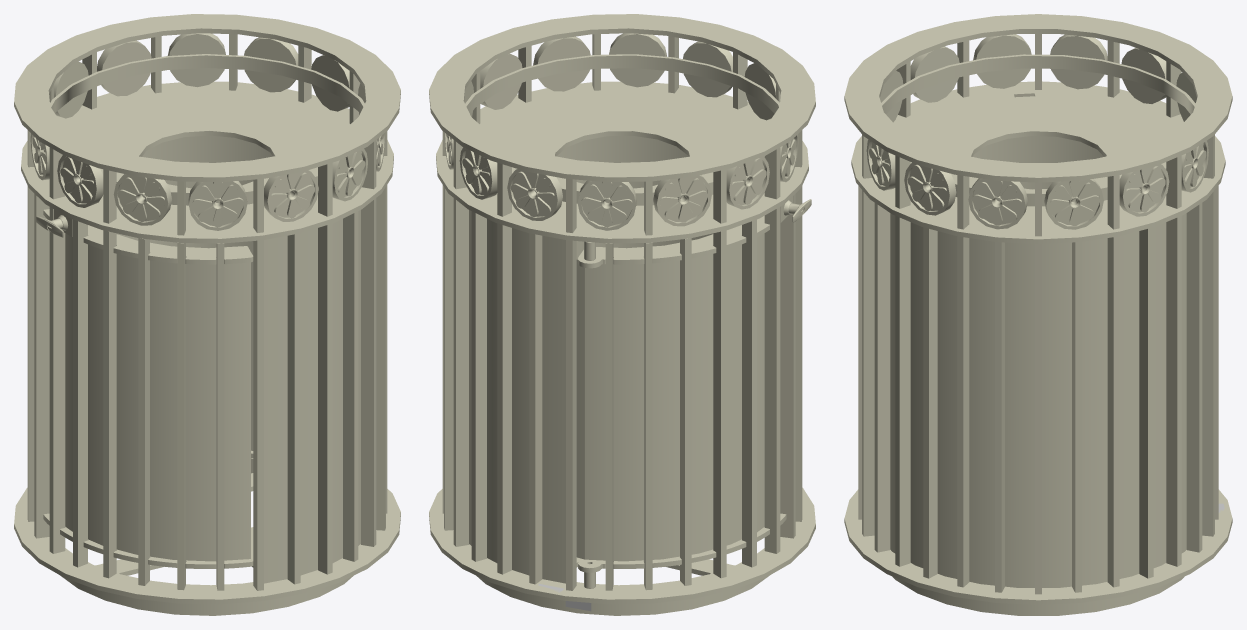
3 views of the same model, side by side, from view 1: azimuth 30°, elevation 25°; view 2: azimuth 150°, elevation 25°; view 3: azimuth 270°, elevation 25° (orthographic).
Visible parts, largest first — view 1: mesh3_mesh3-geometry, mesh1_mesh1-geometry, mesh23_mesh23-geometry, mesh22_mesh22-geometry, mesh17_mesh17-geometry, mesh5_mesh5-geometry, mesh19_mesh19-geometry, mesh24_mesh24-geometry, mesh135_mesh135-geometry, mesh134_mesh134-geometry, mesh129_mesh129-geometry, mesh21_mesh21-geometry (+9 smaller); view 2: mesh3_mesh3-geometry, mesh1_mesh1-geometry, mesh23_mesh23-geometry, mesh22_mesh22-geometry, mesh17_mesh17-geometry, mesh5_mesh5-geometry, mesh19_mesh19-geometry, mesh24_mesh24-geometry, mesh135_mesh135-geometry, mesh134_mesh134-geometry, mesh129_mesh129-geometry, mesh21_mesh21-geometry (+9 smaller); view 3: mesh1_mesh1-geometry, mesh17_mesh17-geometry, mesh19_mesh19-geometry, mesh23_mesh23-geometry, mesh22_mesh22-geometry, mesh5_mesh5-geometry, mesh24_mesh24-geometry, mesh21_mesh21-geometry, mesh25_mesh25-geometry, mesh3_mesh3-geometry, mesh15_mesh15-geometry.
Boxes of the visible parts, bbox=[...] form: mesh3_mesh3-geometry: bbox=[65, 233, 250, 561]; mesh1_mesh1-geometry: bbox=[116, 135, 360, 583]; mesh23_mesh23-geometry: bbox=[21, 81, 393, 243]; mesh22_mesh22-geometry: bbox=[14, 14, 400, 181]; mesh17_mesh17-geometry: bbox=[82, 34, 387, 590]; mesh5_mesh5-geometry: bbox=[30, 33, 385, 230]; mesh19_mesh19-geometry: bbox=[287, 187, 385, 584]; mesh24_mesh24-geometry: bbox=[14, 450, 400, 604]; mesh135_mesh135-geometry: bbox=[49, 207, 65, 553]; mesh134_mesh134-geometry: bbox=[34, 194, 49, 538]; mesh129_mesh129-geometry: bbox=[73, 219, 87, 567]; mesh21_mesh21-geometry: bbox=[50, 54, 364, 205]; mesh3_mesh3-geometry: bbox=[576, 233, 764, 561]; mesh1_mesh1-geometry: bbox=[469, 136, 713, 583]; mesh23_mesh23-geometry: bbox=[436, 81, 808, 243]; mesh22_mesh22-geometry: bbox=[429, 14, 815, 181]; mesh17_mesh17-geometry: bbox=[442, 34, 747, 590]; mesh5_mesh5-geometry: bbox=[444, 33, 798, 230]; mesh19_mesh19-geometry: bbox=[444, 187, 542, 584]; mesh24_mesh24-geometry: bbox=[429, 487, 815, 604]; mesh135_mesh135-geometry: bbox=[764, 207, 780, 553]; mesh134_mesh134-geometry: bbox=[742, 219, 756, 567]; mesh129_mesh129-geometry: bbox=[780, 194, 795, 538]; mesh21_mesh21-geometry: bbox=[465, 54, 779, 205]; mesh1_mesh1-geometry: bbox=[890, 213, 1186, 587]; mesh17_mesh17-geometry: bbox=[862, 134, 1214, 594]; mesh19_mesh19-geometry: bbox=[858, 186, 1218, 592]; mesh23_mesh23-geometry: bbox=[851, 81, 1225, 243]; mesh22_mesh22-geometry: bbox=[844, 14, 1232, 182]; mesh5_mesh5-geometry: bbox=[866, 34, 1208, 229]; mesh24_mesh24-geometry: bbox=[844, 489, 1232, 604]; mesh21_mesh21-geometry: bbox=[881, 54, 1195, 206]; mesh25_mesh25-geometry: bbox=[892, 576, 1184, 615]; mesh3_mesh3-geometry: bbox=[973, 136, 1103, 189]; mesh15_mesh15-geometry: bbox=[896, 34, 1181, 117].
Bounding box in the file's own units: 0.527 × 0.6708 × 0.5218.
